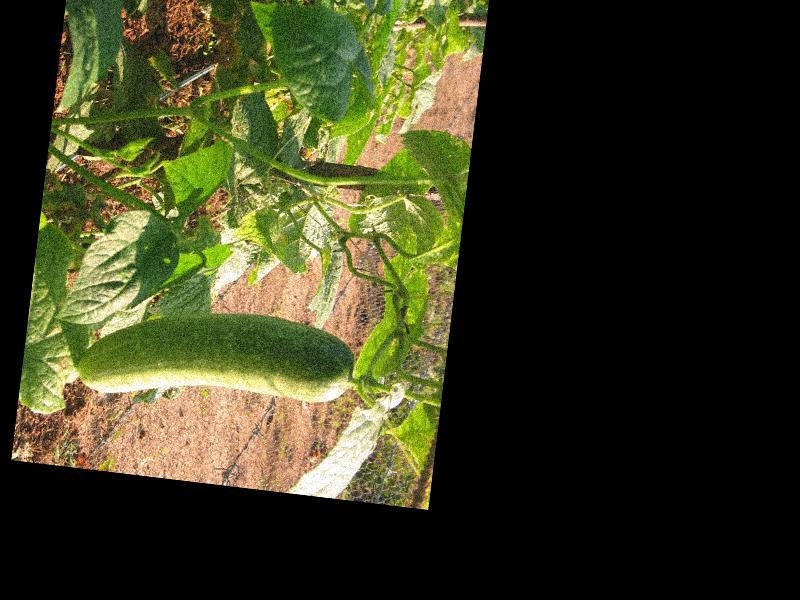Cucumber: (76, 294, 357, 420)
